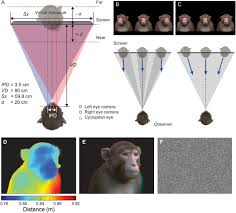monkey: (72, 129, 158, 187)
